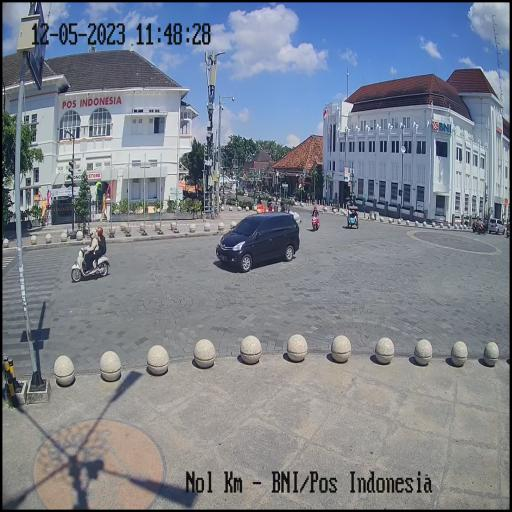mobil: (215, 206, 302, 274)
motor: (70, 238, 111, 286)
